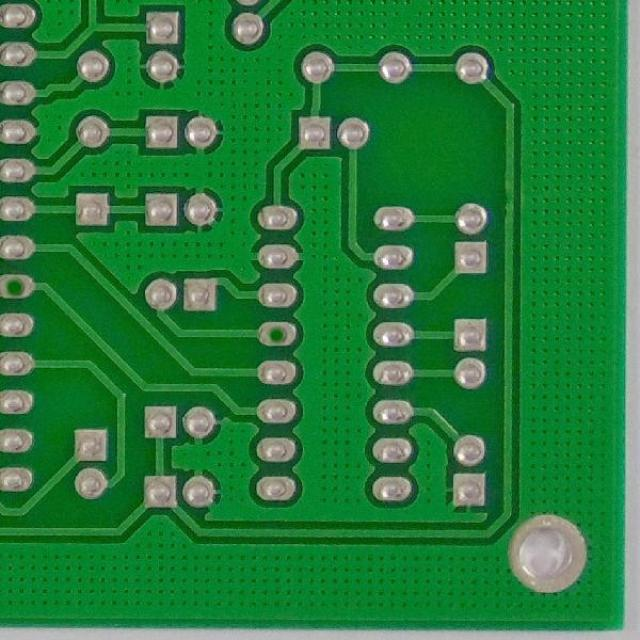missing_hole: (1, 270, 38, 304), (264, 318, 298, 351)
